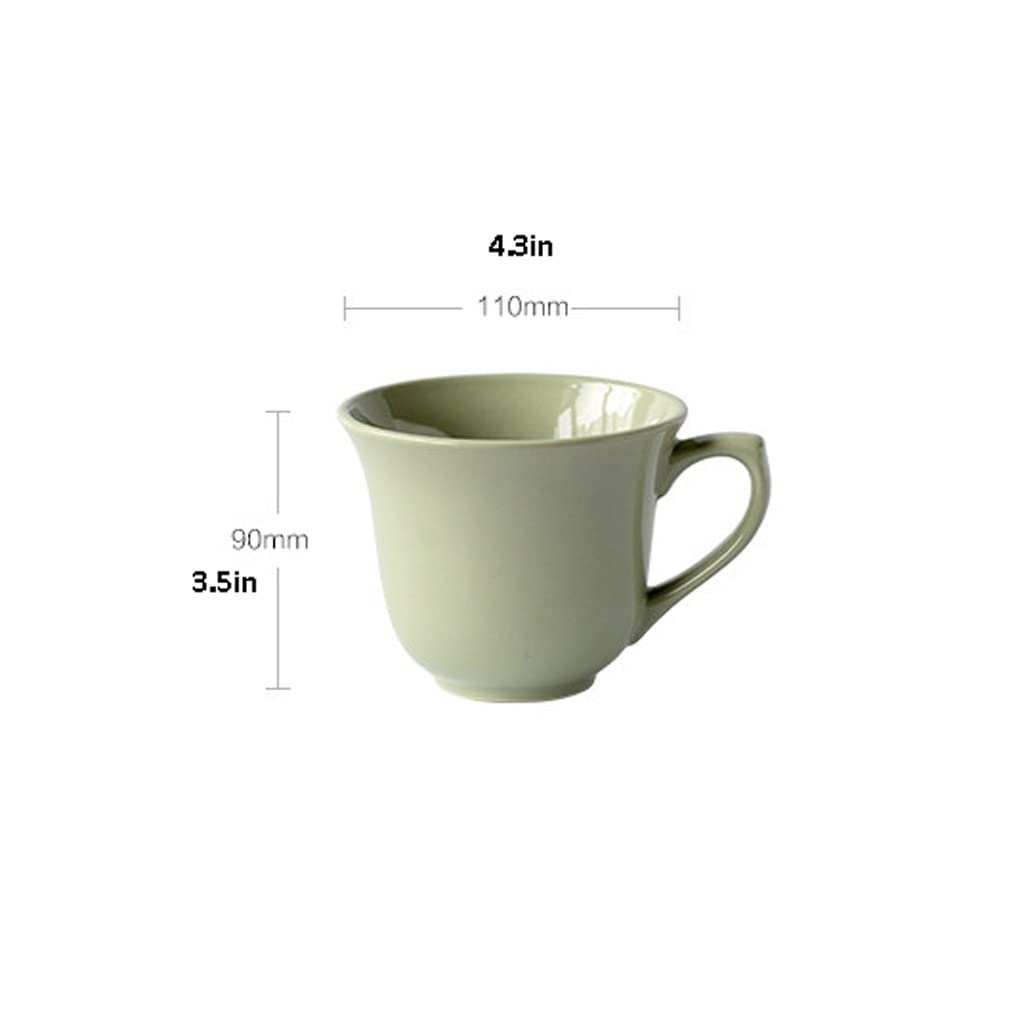3.5in: (192, 571, 257, 593)
43in: (488, 234, 553, 257)
90mm: (232, 529, 308, 550)
|: (678, 297, 680, 320)
